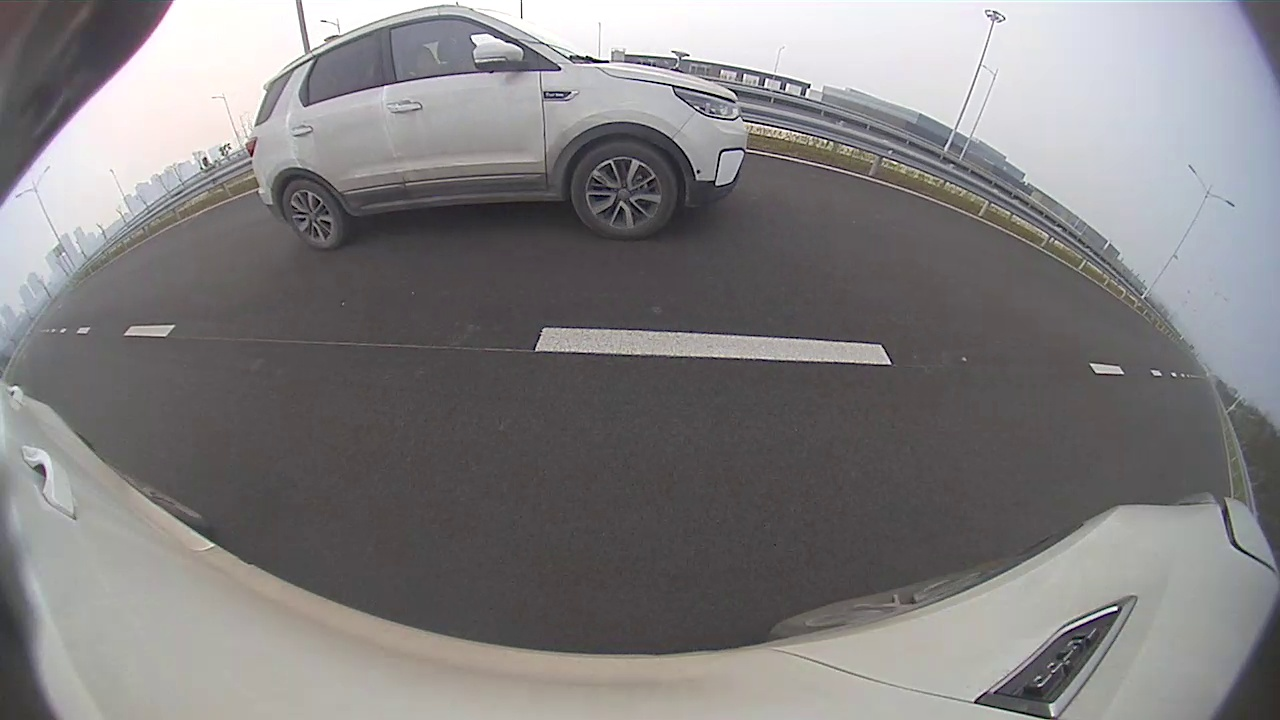car: (246, 5, 748, 251)
front: (572, 144, 678, 240)
rear: (281, 182, 344, 249)
